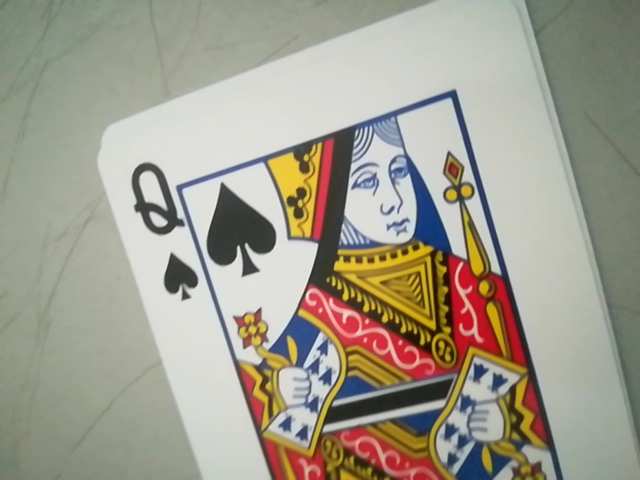ht q: (121, 152, 203, 300)
